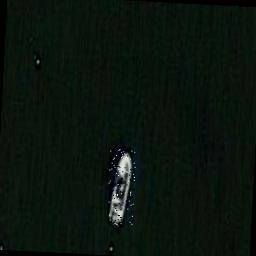boat: (106, 148, 136, 225)
